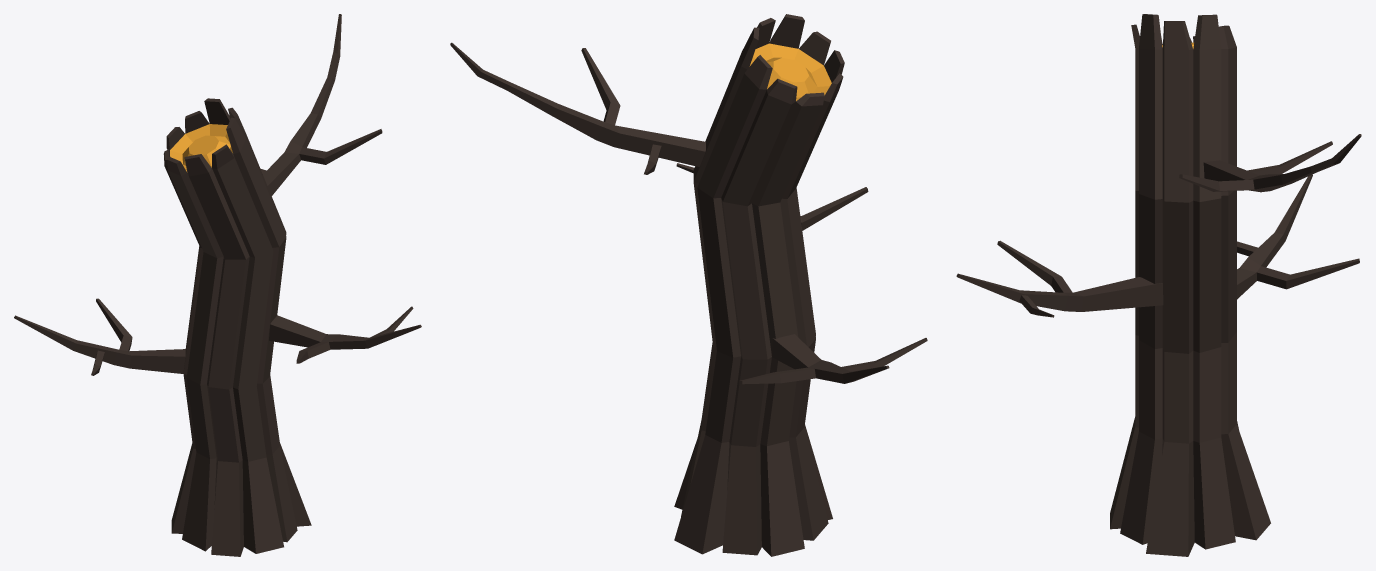
Rendered from Broken_Tree_Dead.fbx.
3 views of the same model, side by side, from view 1: azimuth 30°, elevation 25°; view 2: azimuth 150°, elevation 25°; view 3: azimuth 270°, elevation 25° (orthographic). The views are drawn at different scales.
Visible parts, largest first — view 1: Broken_Tree_Dead; view 2: Broken_Tree_Dead; view 3: Broken_Tree_Dead.
Part boxes in pixels (x1,y1,x2,y2): Broken_Tree_Dead: (14, 14, 421, 556); Broken_Tree_Dead: (450, 14, 927, 556); Broken_Tree_Dead: (956, 14, 1361, 556).
Size of the model in its own units: 292 by 341 by 251.
